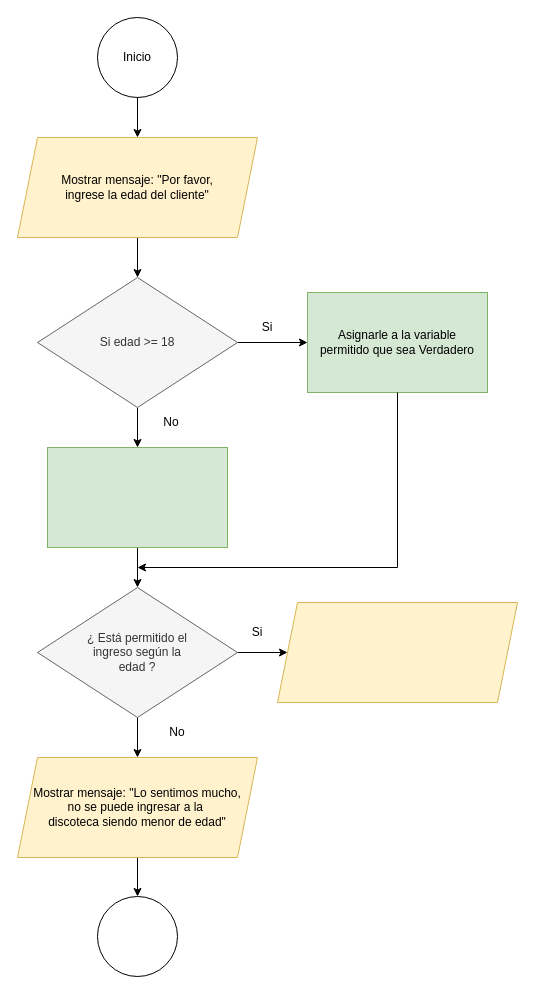
This 535x994 diagram has some shape labels left out. The centre of each missing label's shape, as x and y in pixels:
Asignarle a la variable permitido que sea falso: the point at 137,497
Fin: the point at 137,936
Mostrar mensaje: "¡Puedes ingresar a la discoteca!": the point at 397,652
